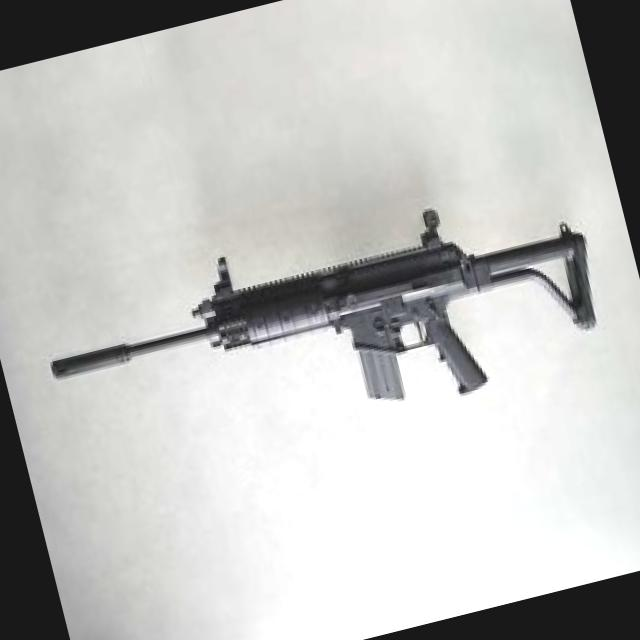long weapon: (0, 148, 631, 485)
